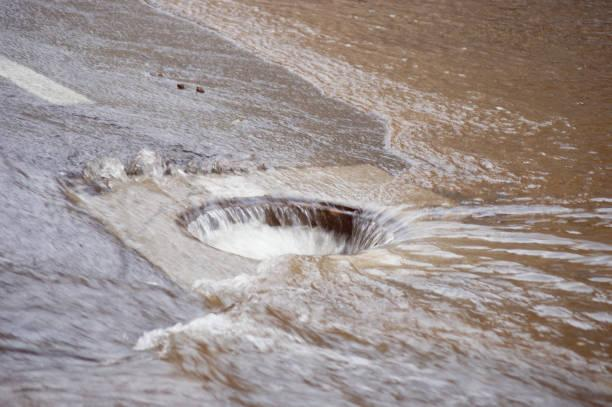drainage overflow-repair-: (39, 139, 539, 375)
